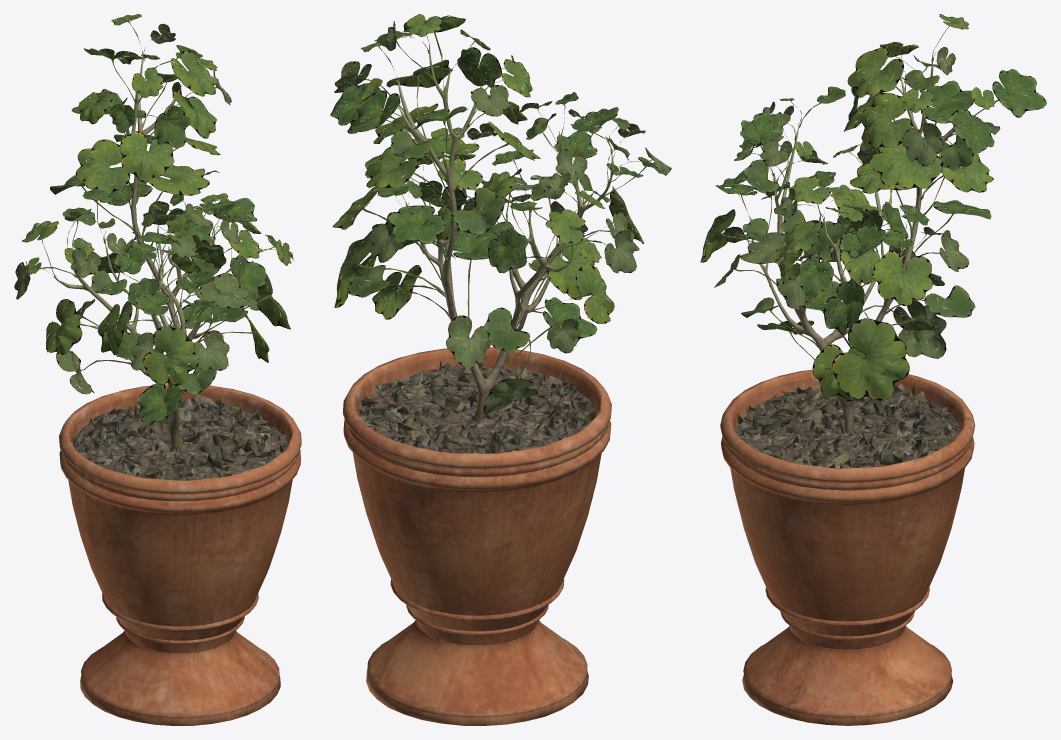
File: plant.glb
3 renders of one model, left to right at view 1: azimuth 30°, elevation 25°; view 2: azimuth 150°, elevation 25°; view 3: azimuth 270°, elevation 25°, orthographic. The views are drawn at different scales.
Parts seen in each view (by area): view 1: potted_plant_01_pot, potted_plant_01_leaves, potted_plant_01_pebbles, potted_plant_01_stem; view 2: potted_plant_01_pot, potted_plant_01_leaves, potted_plant_01_pebbles, potted_plant_01_stem; view 3: potted_plant_01_pot, potted_plant_01_leaves, potted_plant_01_pebbles, potted_plant_01_stem.
Part boxes in pixels (<box>): potted_plant_01_pot: <box>59,384,301,725</box>; potted_plant_01_leaves: <box>14,14,293,423</box>; potted_plant_01_pebbles: <box>72,393,287,493</box>; potted_plant_01_stem: <box>53,54,244,445</box>; potted_plant_01_pot: <box>343,347,611,725</box>; potted_plant_01_leaves: <box>330,14,671,414</box>; potted_plant_01_pebbles: <box>358,361,597,468</box>; potted_plant_01_stem: <box>397,47,612,420</box>; potted_plant_01_pot: <box>720,369,975,725</box>; potted_plant_01_leaves: <box>700,14,1046,401</box>; potted_plant_01_pebbles: <box>735,383,960,482</box>; potted_plant_01_stem: <box>751,55,966,433</box>.
Size of the model in its own units: 0.5871 by 1.34 by 0.6328.
2 materials, 2 textured.
